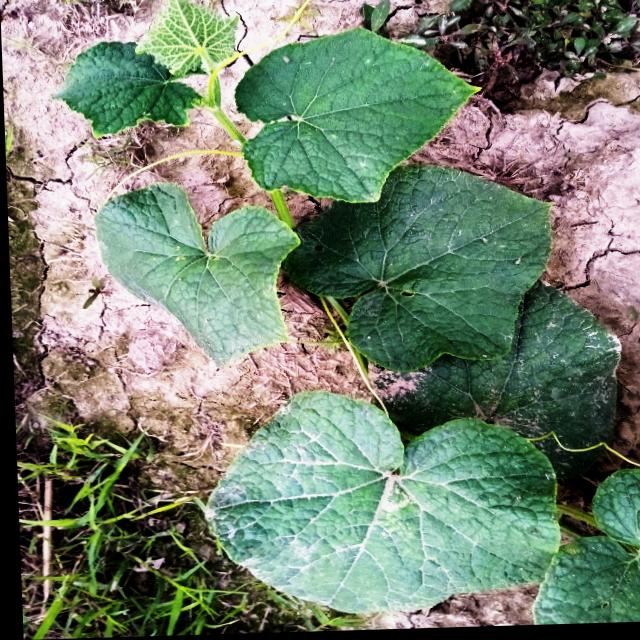Fresh-Leaf: (233, 27, 481, 206), (51, 40, 199, 139)
